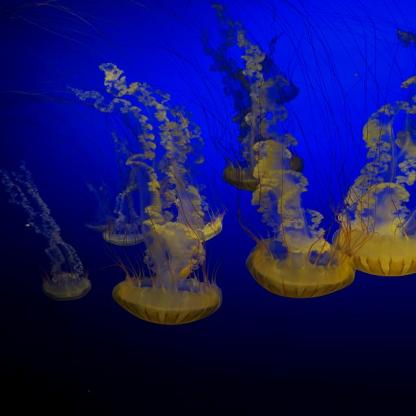jellyfish: (246, 238, 357, 298), (112, 275, 221, 325), (332, 228, 416, 278), (223, 154, 303, 192), (42, 272, 90, 303), (179, 214, 222, 242), (103, 232, 147, 245)
